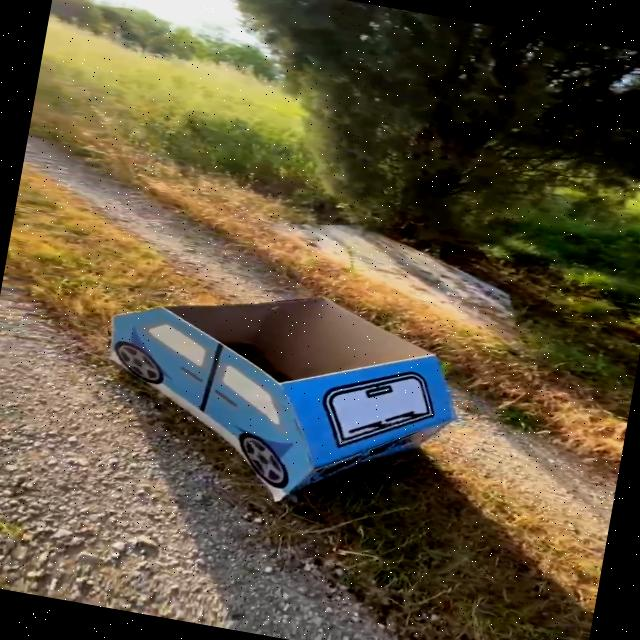blue_car: (44, 251, 533, 562)
